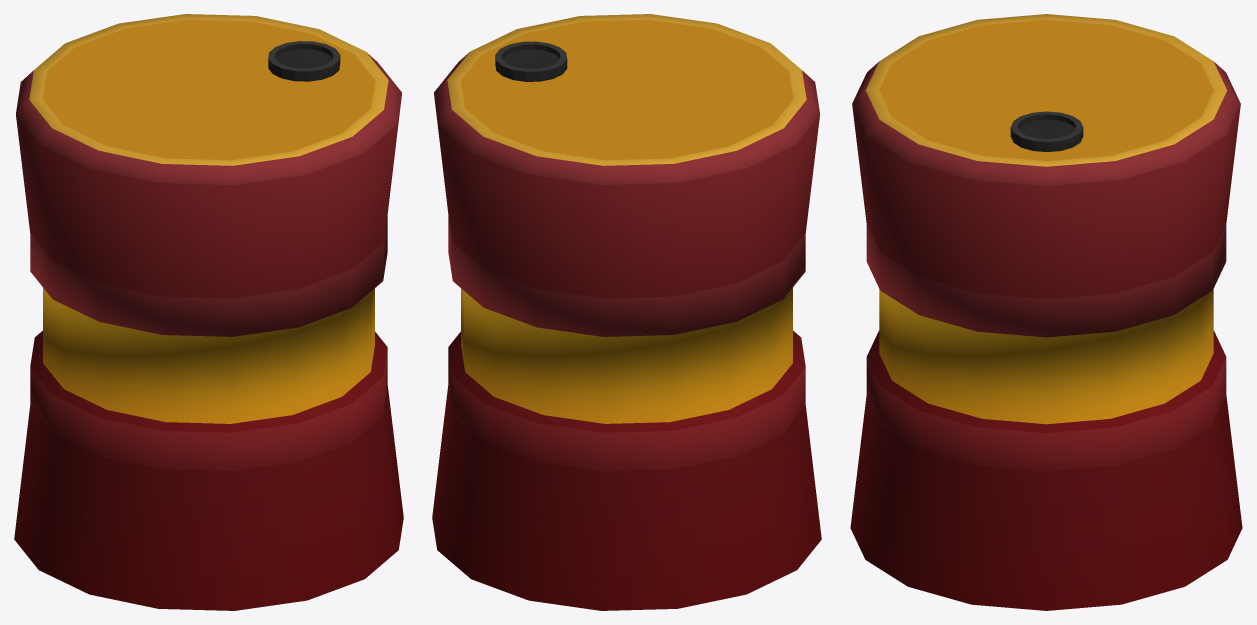
Rendered from red barrel.fbx.
The picture shows the model from 3 angles, left to right: view 1: azimuth 30°, elevation 25°; view 2: azimuth 150°, elevation 25°; view 3: azimuth 270°, elevation 25°; orthographic projection.
Visible parts, largest first — view 1: Cylinder.016; view 2: Cylinder.016; view 3: Cylinder.016.
Part boxes in pixels (box(x1,y1,x2,y2)): Cylinder.016: box(14, 14, 403, 610); Cylinder.016: box(432, 14, 821, 610); Cylinder.016: box(850, 14, 1242, 610).
Bounding box in the file's own units: 203 × 256 × 203.
